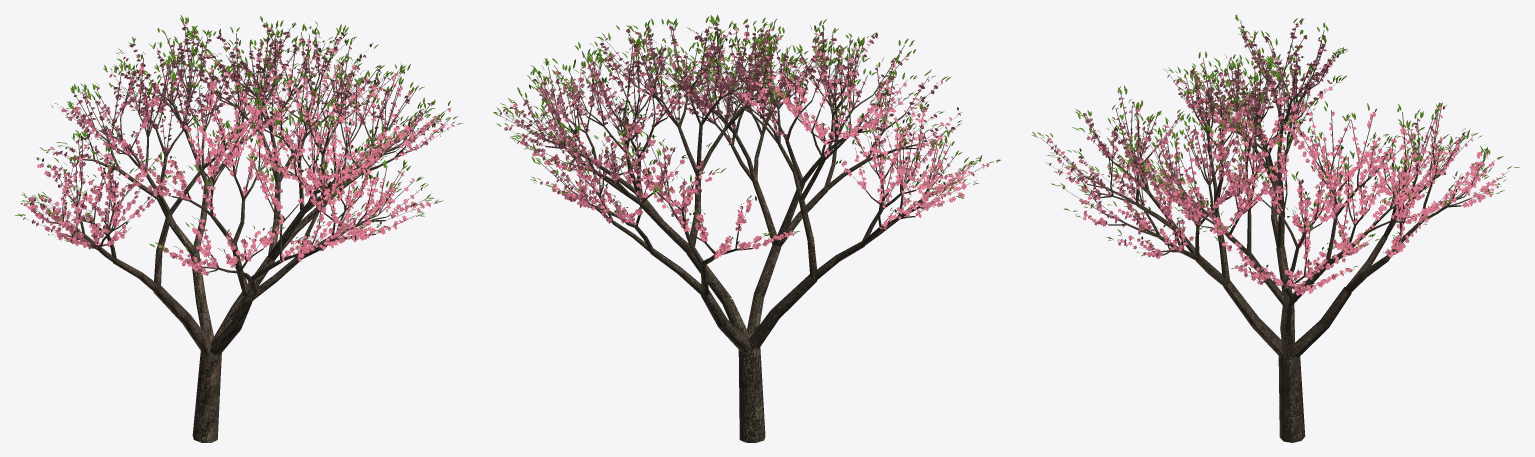
Rendered from yh_bitao.glb.
3 views of the same model, side by side, from view 1: azimuth 30°, elevation 25°; view 2: azimuth 150°, elevation 25°; view 3: azimuth 270°, elevation 25° (orthographic). The views are drawn at different scales.
Visible parts, largest first — view 1: yh_bitao_花叶, yh_bitao_树皮; view 2: yh_bitao_花叶, yh_bitao_树皮; view 3: yh_bitao_花叶, yh_bitao_树皮.
Part boxes in pixels (<box>): yh_bitao_花叶: <box>15,15,463,275</box>; yh_bitao_树皮: <box>26,23,451,442</box>; yh_bitao_花叶: <box>493,14,1000,258</box>; yh_bitao_树皮: <box>499,22,988,442</box>; yh_bitao_花叶: <box>1031,14,1519,295</box>; yh_bitao_树皮: <box>1041,22,1508,442</box>.
Bounding box in the file's own units: 1.2 × 1 × 1.17.
Materials: 2 (2 with a texture image).
